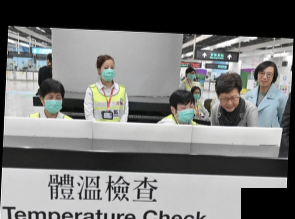with_mask: (42, 92, 63, 113), (176, 100, 195, 123), (99, 63, 115, 81), (191, 89, 201, 100), (186, 69, 196, 79)
without_mask: (219, 92, 240, 112), (256, 68, 275, 85)
